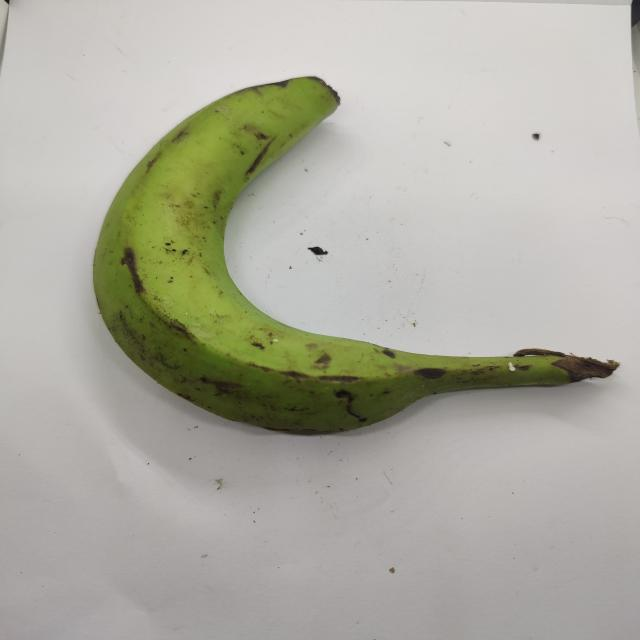Raw: (66, 66, 626, 457)
